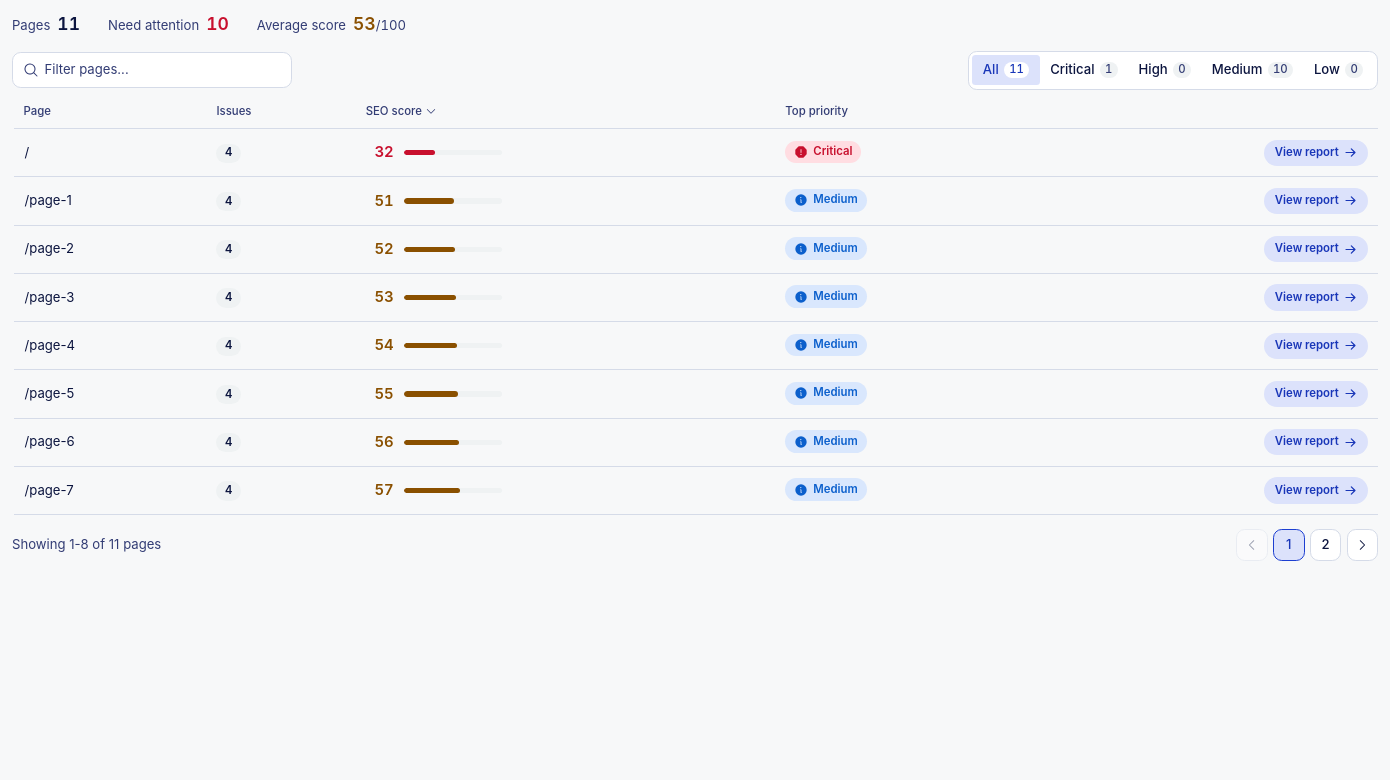
Test case: AuditPageTable › sorts by score with unscored pages last
The image size is (1390, 780).
Click the button "SEO score": (402, 112) [366,104,437,119]
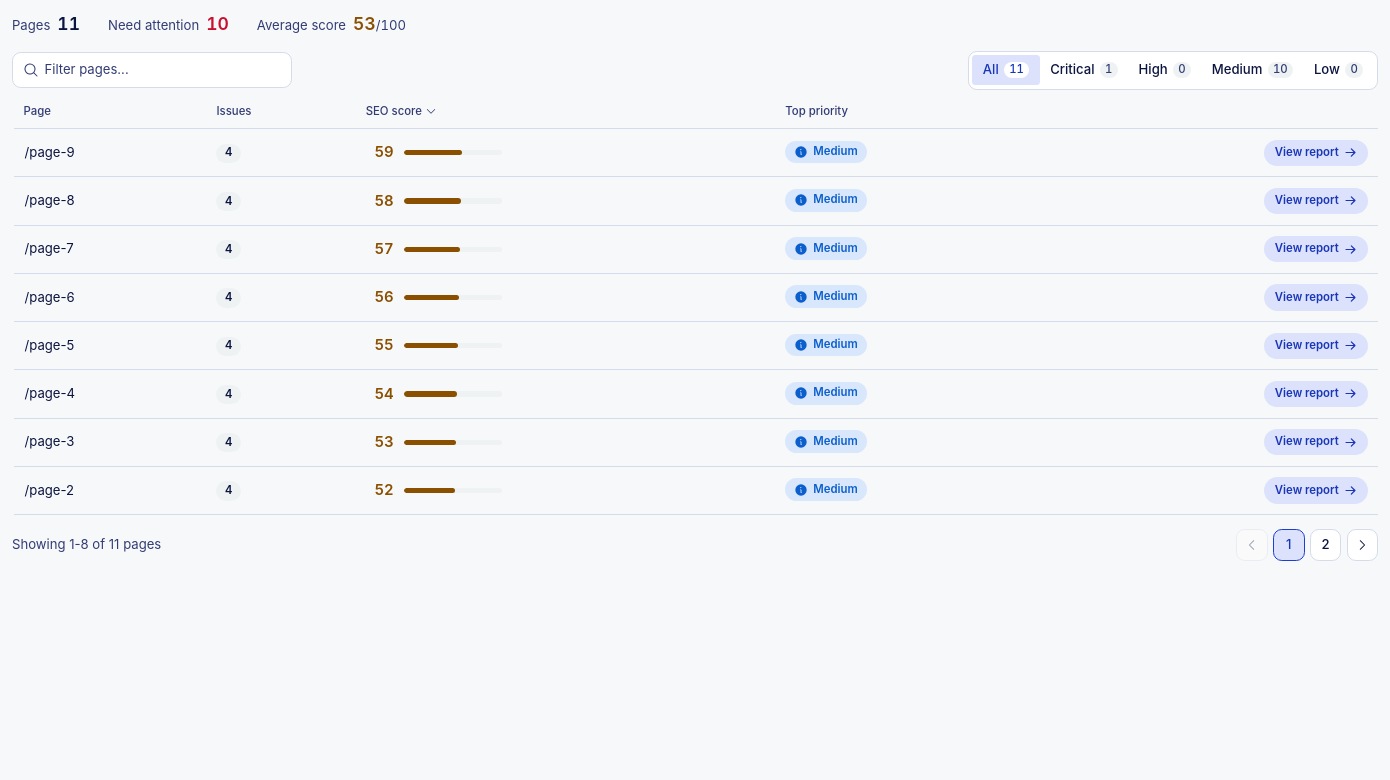
Now the text "/page-9" is shown, box [13,129,206,177]
